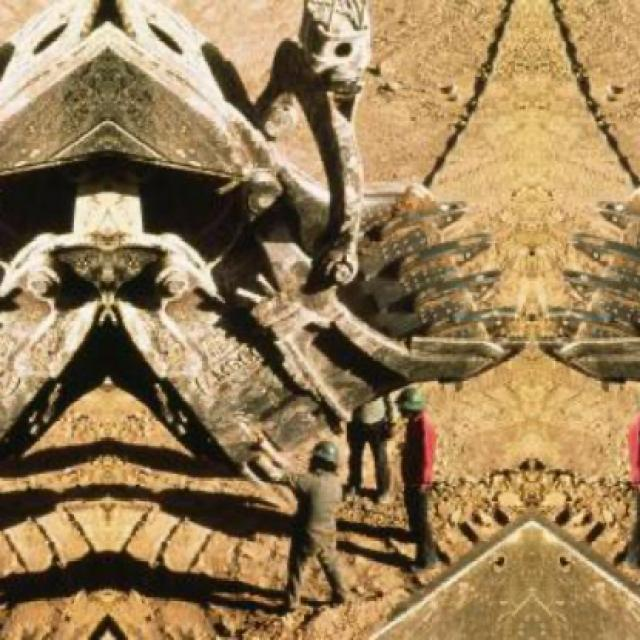helmet: (393, 386, 427, 422), (307, 438, 342, 472)
